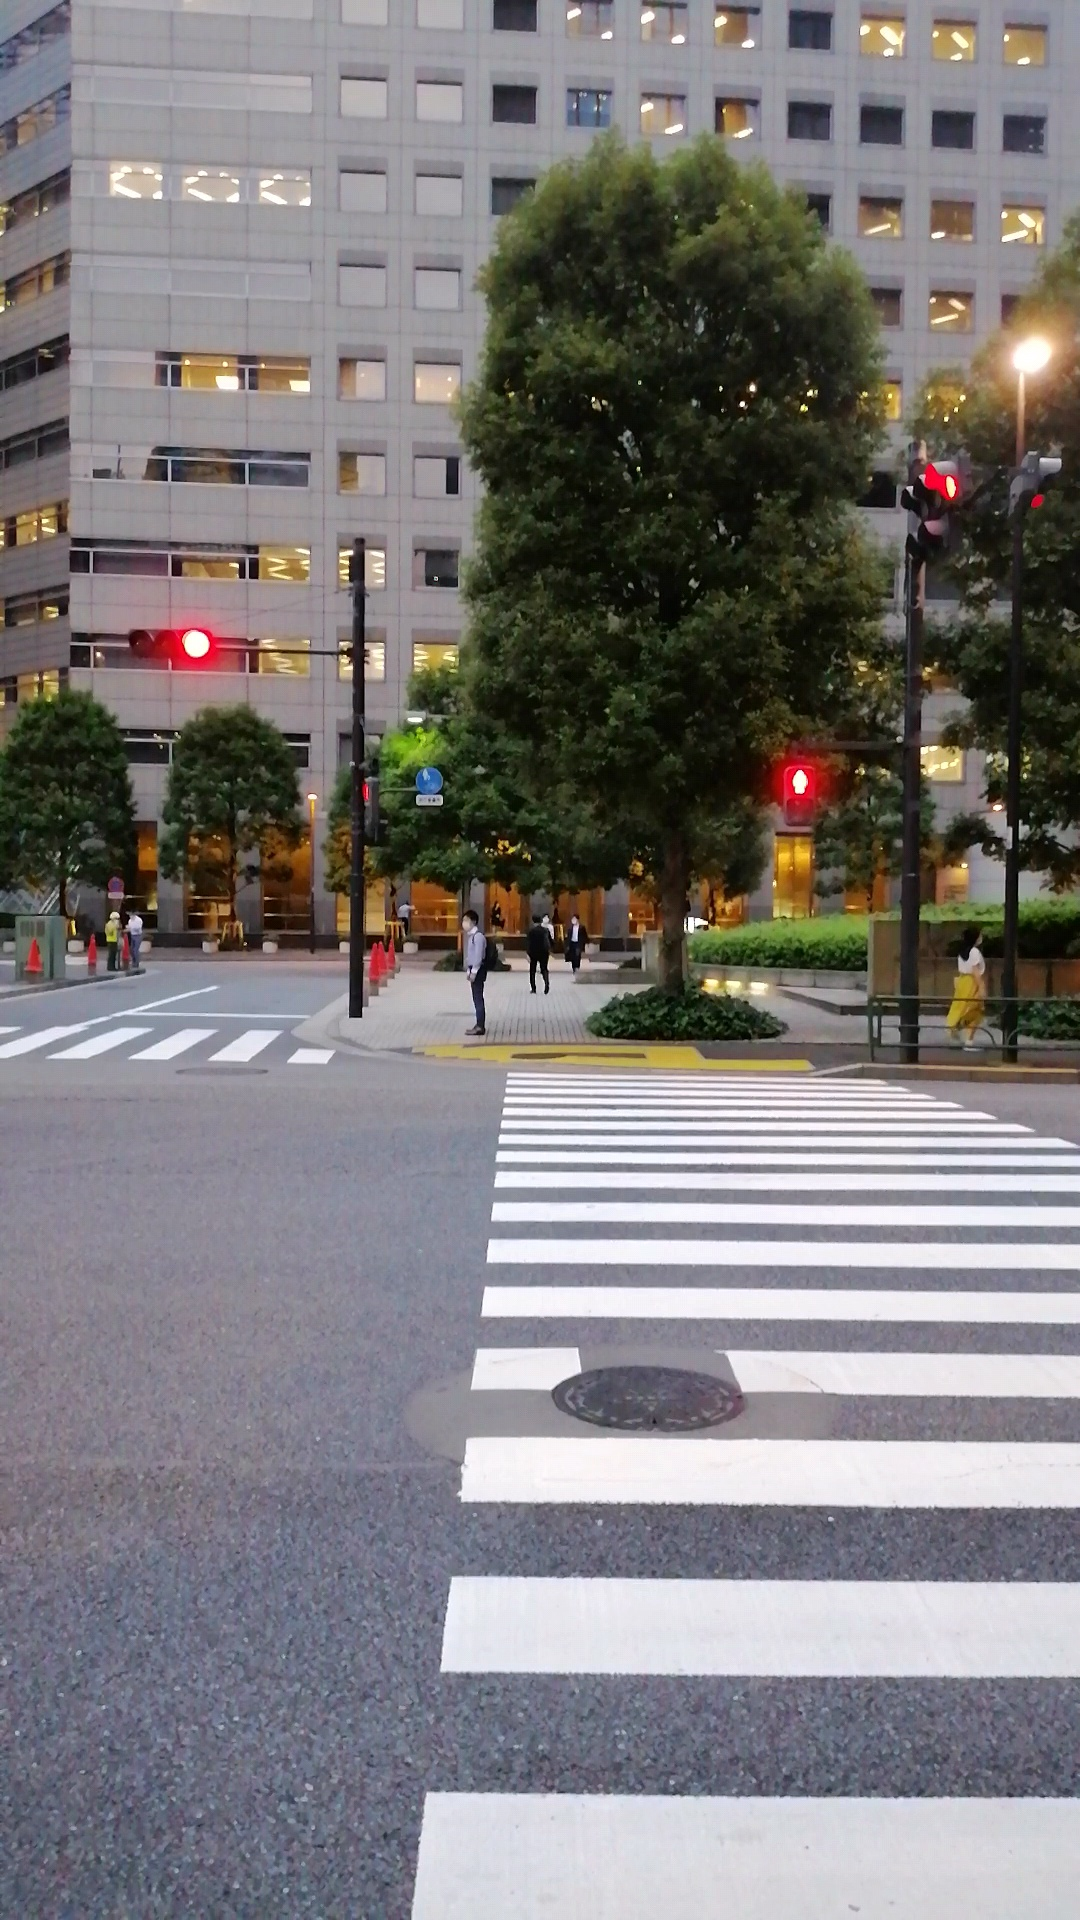red: (782, 764, 818, 827)
